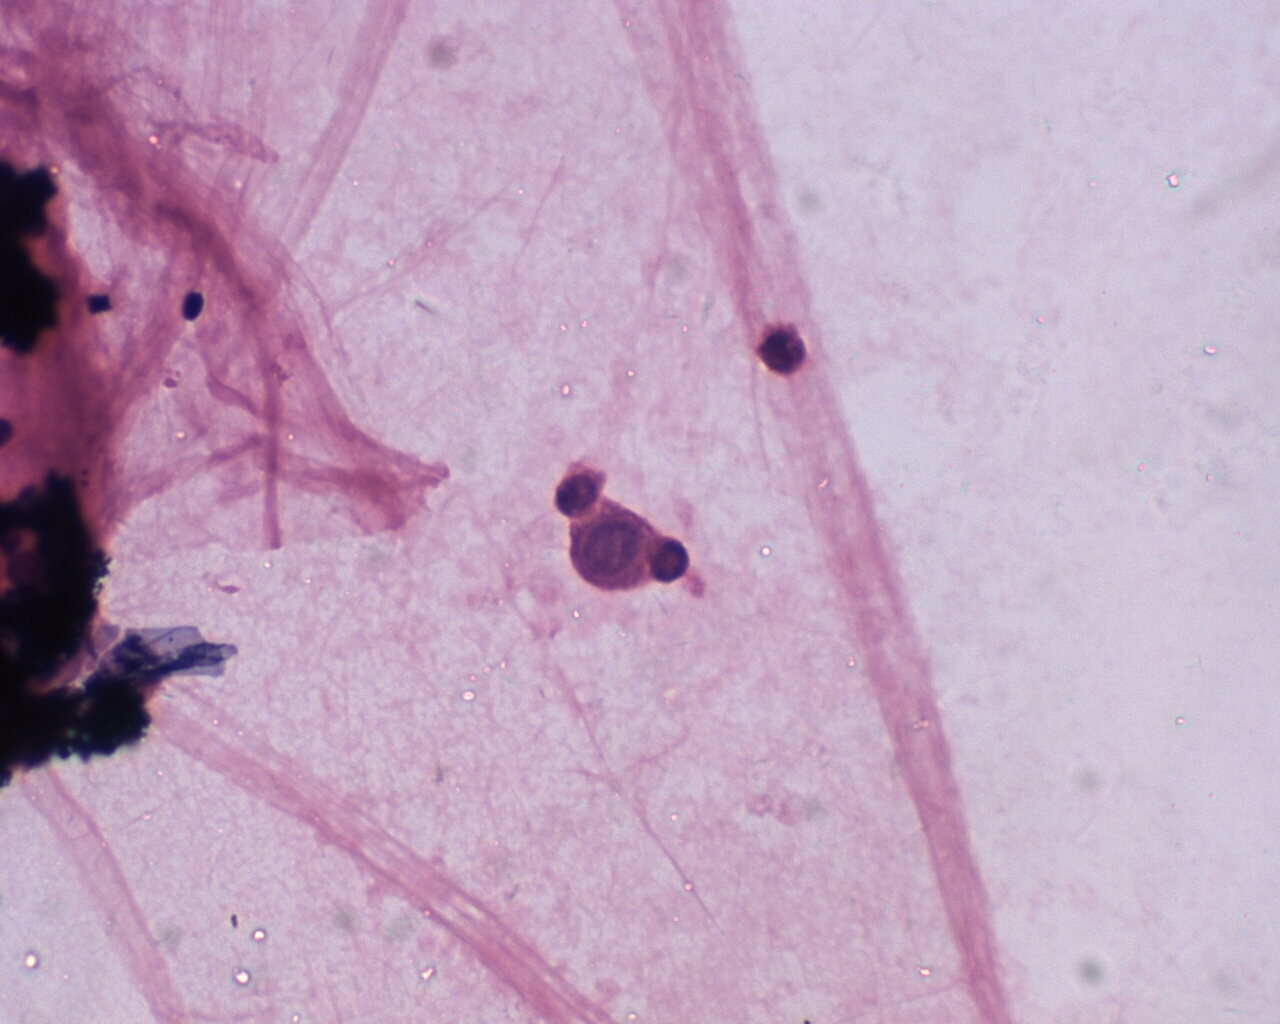ab: (566, 499, 656, 594)
